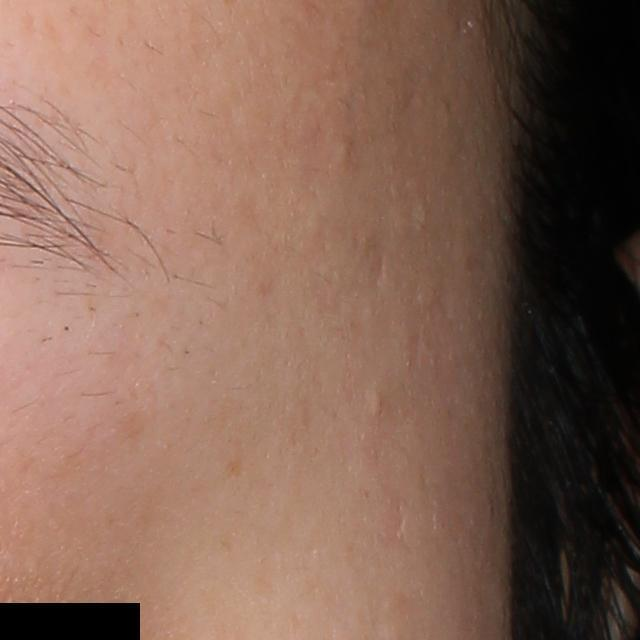comedo: (329, 135, 356, 170), (367, 388, 385, 418)
